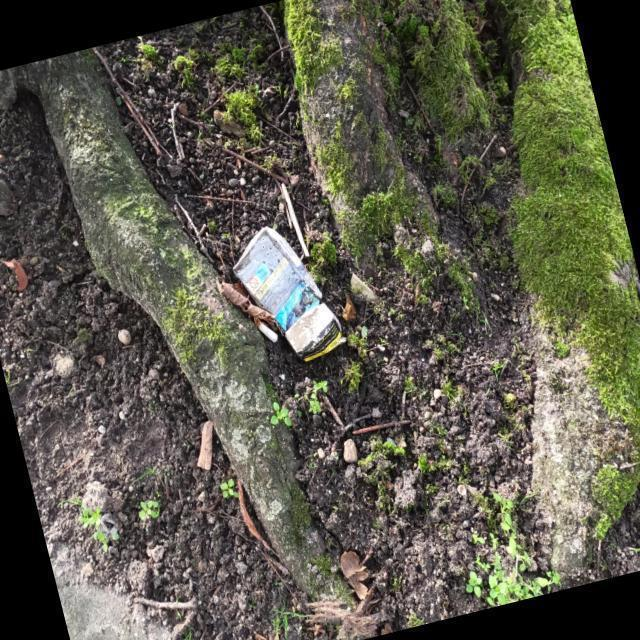Paper: (230, 224, 348, 364)
